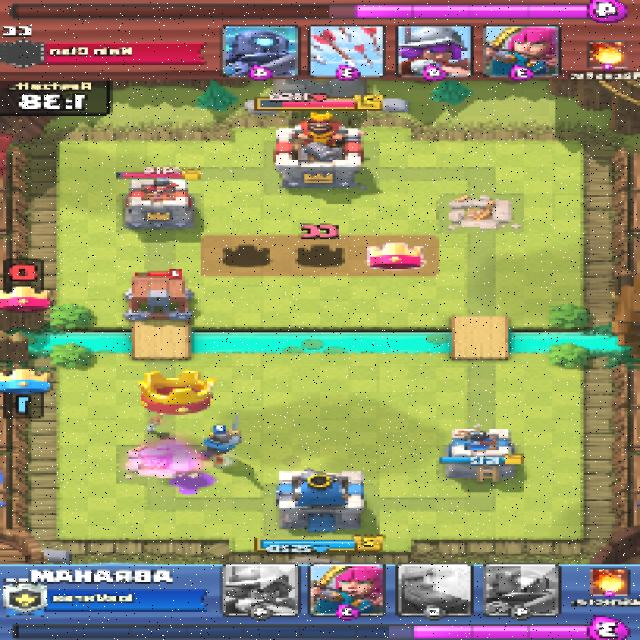Player-GoblinCage: (121, 273, 198, 320)
Player-Knight: (196, 428, 246, 465)
